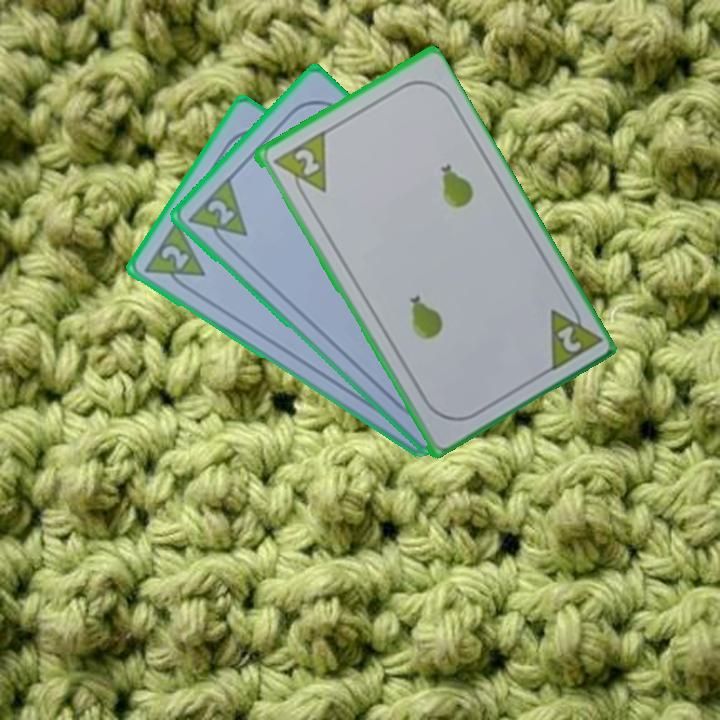2p: (543, 294, 602, 375), (203, 195, 237, 229), (156, 241, 192, 273), (290, 144, 322, 179)
